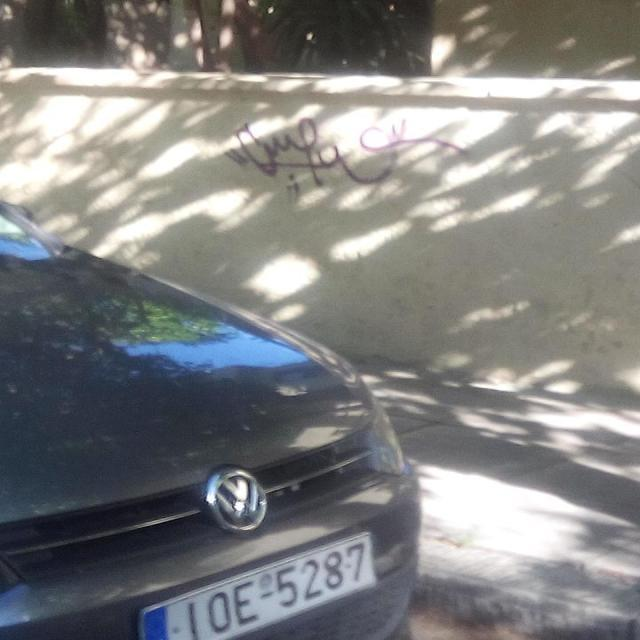nonspitting: (225, 118, 468, 197)
